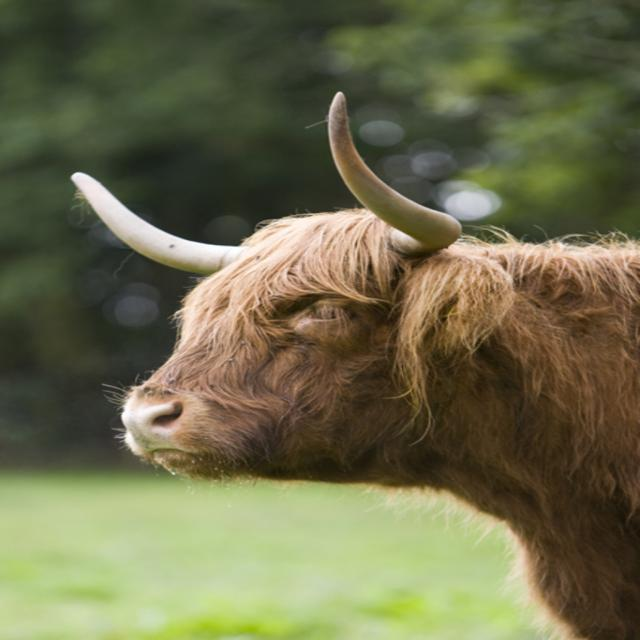Cattle: (70, 91, 636, 637)
